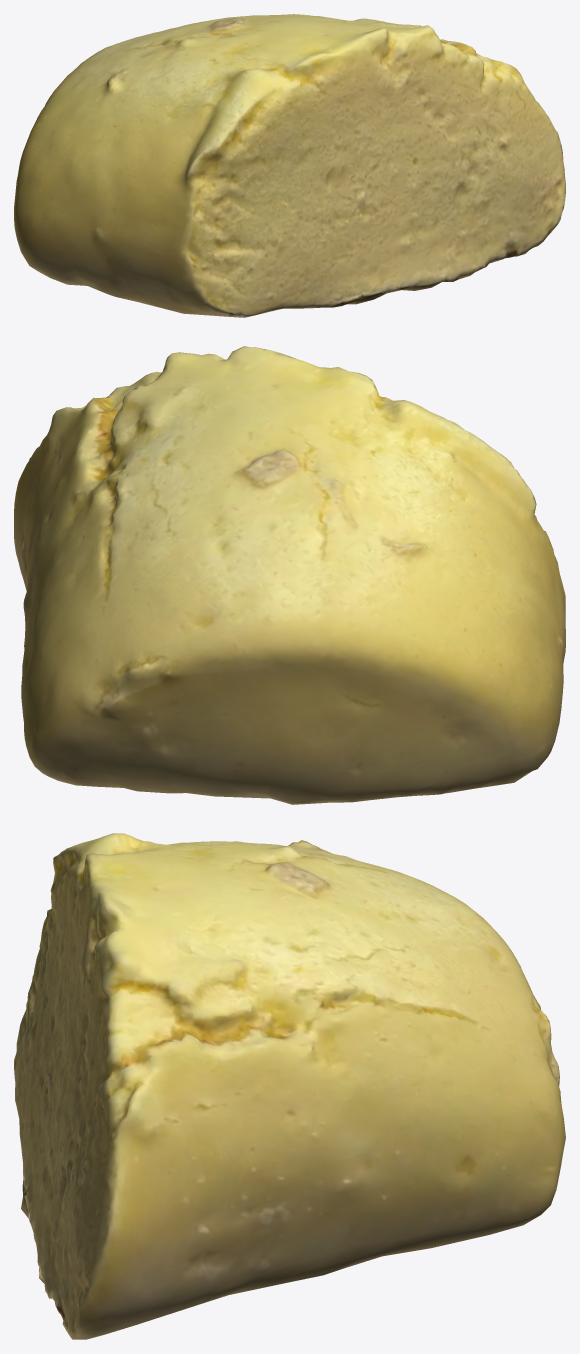
File: 玉米馒头.glb
3 renders of one model, top to bottom at view 1: azimuth 30°, elevation 25°; view 2: azimuth 150°, elevation 25°; view 3: azimuth 270°, elevation 25°, orthographic. The views are drawn at different scales.
Parts seen in each view (by area): view 1: 玉米馒头.usdz; view 2: 玉米馒头.usdz; view 3: 玉米馒头.usdz.
Part boxes in pixels (x1,y1,x2,y2): 玉米馒头.usdz: [14, 14, 565, 317]; 玉米馒头.usdz: [14, 346, 565, 804]; 玉米馒头.usdz: [14, 833, 565, 1339].
Size of the model in its own units: 0.1278 by 0.0638 by 0.0917.
Materials: 1 (1 with a texture image).
